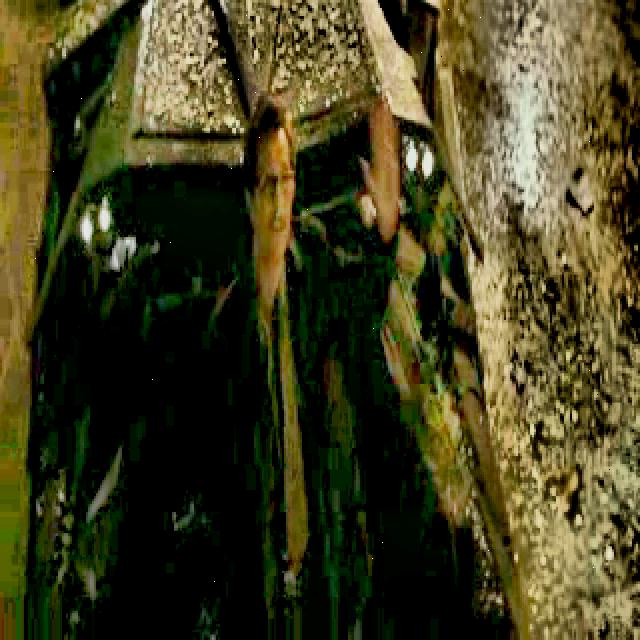L: (210, 92, 424, 636)
